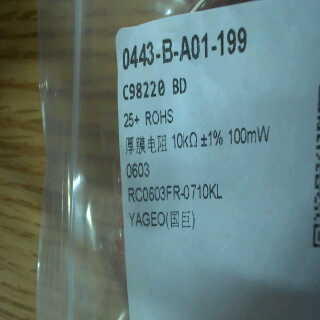10kR: (170, 127, 199, 150)
